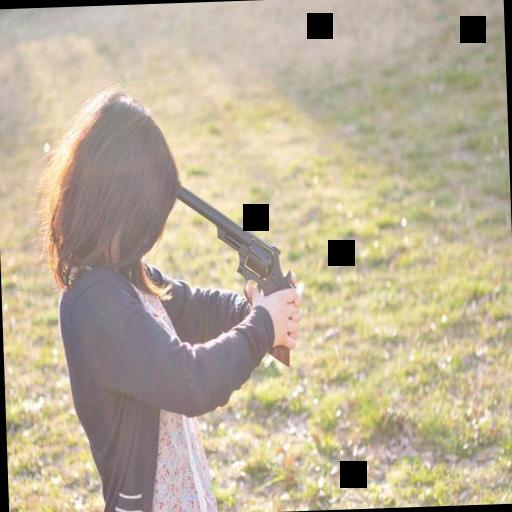Handgun: (166, 166, 298, 375)
